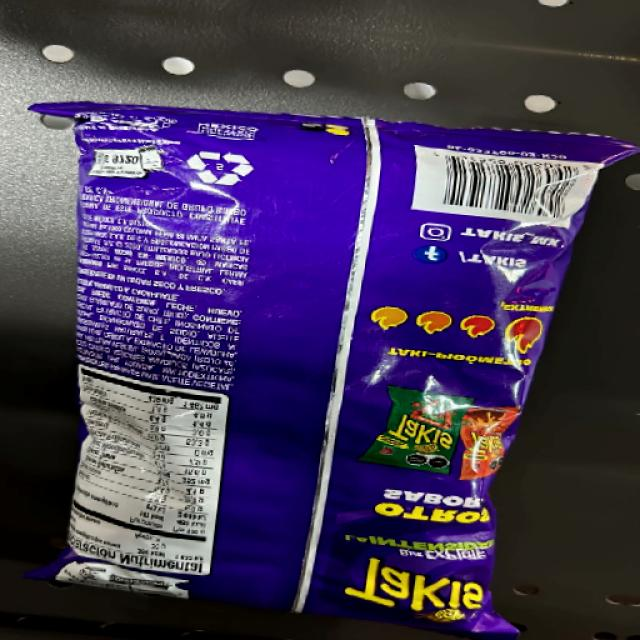productoAtras: (94, 115, 558, 615)
